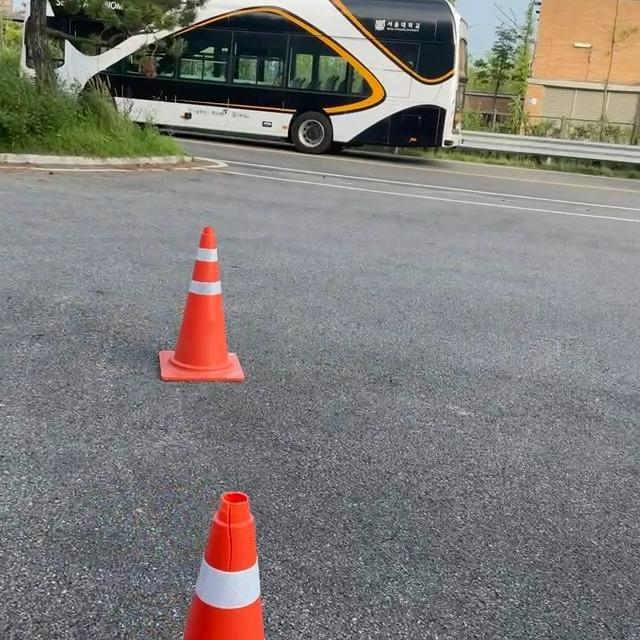fallen_object: (149, 202, 267, 432), (163, 463, 299, 640)
